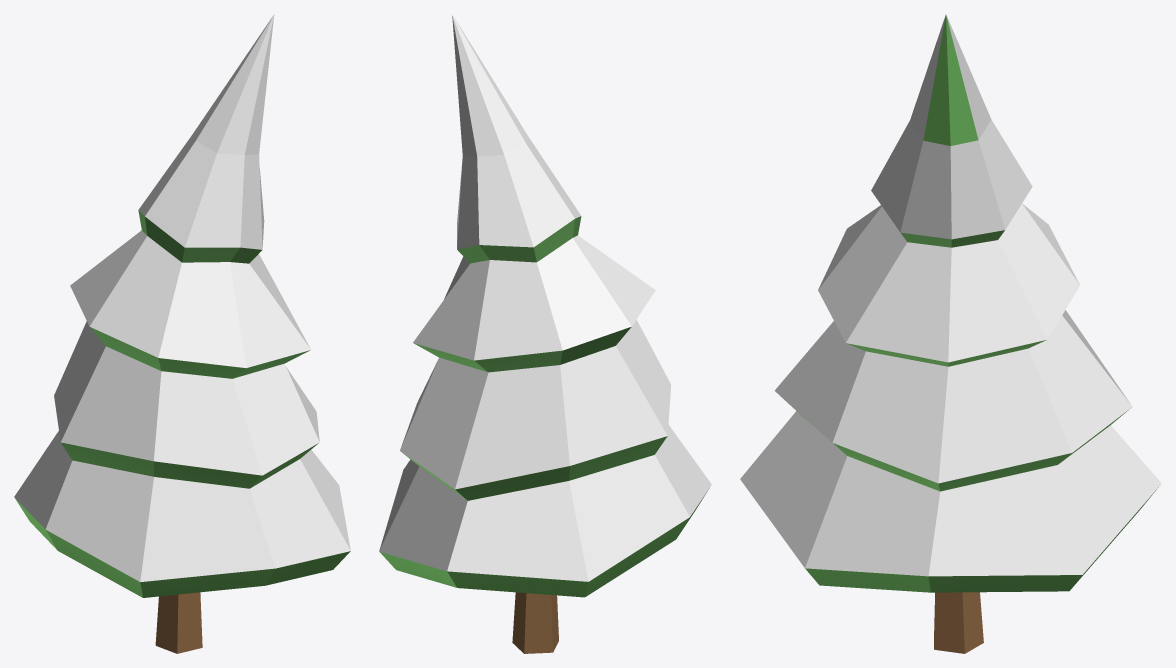
File: Fir_Tree_m_Snow_07.fbx
3 views of the same model, side by side, from view 1: azimuth 30°, elevation 25°; view 2: azimuth 150°, elevation 25°; view 3: azimuth 270°, elevation 25° (orthographic). The views are drawn at different scales.
Parts seen in each view (by area): view 1: Fir_Tree_m_Snow_07; view 2: Fir_Tree_m_Snow_07; view 3: Fir_Tree_m_Snow_07.
Part boxes in pixels (<box>): Fir_Tree_m_Snow_07: <box>14,14,350,653</box>; Fir_Tree_m_Snow_07: <box>379,15,711,653</box>; Fir_Tree_m_Snow_07: <box>740,14,1161,653</box>.
Bounding box in the file's own units: 391 × 784 × 443.
